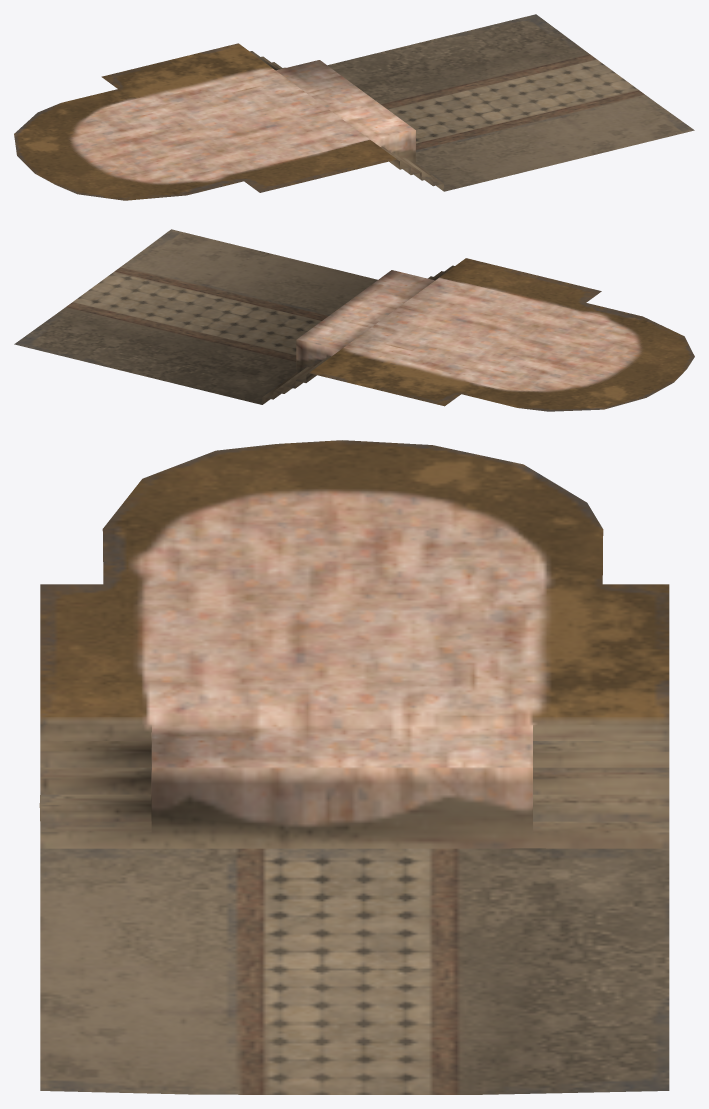
File: Escada I.fbx
3 renders of one model, top to bottom at view 1: azimuth 30°, elevation 25°; view 2: azimuth 150°, elevation 25°; view 3: azimuth 270°, elevation 25°, orthographic. The views are drawn at different scales.
Visible parts, largest first — view 1: Chao/ Escada I; view 2: Chao/ Escada I; view 3: Chao/ Escada I.
Part boxes in pixels (x1,y1,x2,y2): Chao/ Escada I: (14, 14, 694, 200); Chao/ Escada I: (14, 229, 694, 411); Chao/ Escada I: (39, 440, 669, 1094).
Size of the model in its own units: 2107 by 155 by 992.
